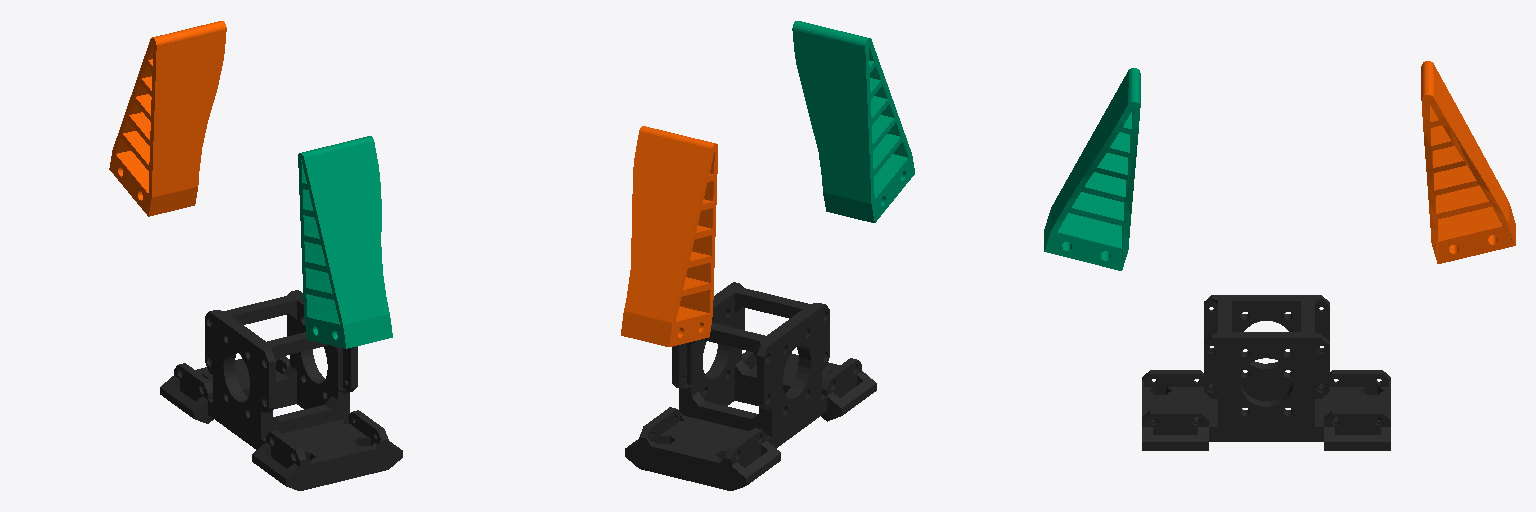
robot.urdf — lbr_iiwa:
<?xml version="1.0" ?>
<!-- ======================================================================= -->
<!-- | This document was autogenerated by xacro from lbr_iiwa.urdf.xacro   | -->
<!-- | Original xacro: https://github.com/rtkg/lbr_iiwa/archive/master.zip | -->
<!-- | EDITING THIS FILE BY HAND IS NOT RECOMMENDED                        | -->
<!-- | Changes ([author]):                                                 | -->
<!-- |   * Removed gazebo tags.                                            | -->
<!-- |   * Removed unused materials.                                       | -->
<!-- |   * Made mesh paths relative.                                       | -->
<!-- |   * Removed material fields from collision segments.                | -->
<!-- |   * Removed the self_collision_checking segment.                    | -->
<!-- |   * Removed transmission segments, since they didn't match the      | -->
<!-- |     convention, will have to added back later.                      | -->
<!-- ======================================================================= -->
<!--LICENSE:                                                                 -->
<!--Copyright (c) 2015, [author] & [author], AASS Research Center,  -->
<!--Orebro University, Sweden                                                -->
<!--All rights reserved.                                                     -->
<!--                                                                         -->
<!--Redistribution and use in source and binary forms, with or without       -->
<!--modification, are permitted provided that the following conditions are   -->
<!--met:                                                                     -->
<!--                                                                         -->
<!--1. Redistributions of source code must retain the above copyright notice,-->
<!--   this list of conditions and the following disclaimer.                 -->
<!--                                                                         -->
<!--2. Redistributions in binary form must reproduce the above copyright     -->
<!--   notice, this list of conditions and the following disclaimer in the   -->
<!--   documentation and/or other materials provided with the distribution.  -->
<!--                                                                         -->
<!--THIS SOFTWARE IS PROVIDED BY THE COPYRIGHT [author] "AS  -->
<!--IS" AND ANY EXPRESS OR IMPLIED WARRANTIES, INCLUDING, BUT NOT LIMITED TO,-->
<!--THE IMPLIED WARRANTIES OF MERCHANTABILITY AND FITNESS FOR A PARTICULAR   -->
<!--PURPOSE ARE DISCLAIMED. IN NO EVENT SHALL THE COPYRIGHT [author]        -->
<!--CONTRIBUTORS BE LIABLE FOR ANY DIRECT, INDIRECT, INCIDENTAL, SPECIAL,    -->
<!--EXEMPLARY, OR CONSEQUENTIAL DAMAGES (INCLUDING, BUT NOT LIMITED TO,      -->
<!--PROCUREMENT OF SUBSTITUTE GOODS OR SERVICES; LOSS OF USE, DATA, OR       -->
<!--PROFITS; OR BUSINESS INTERRUPTION) HOWEVER CAUSED AND ON ANY THEORY OF   -->
<!--LIABILITY, WHETHER IN CONTRACT, STRICT LIABILITY, OR TORT (INCLUDING     -->
<!--NEGLIGENCE OR OTHERWISE) ARISING IN ANY WAY OUT OF THE USE OF THIS       -->
<!--SOFTWARE, EVEN IF ADVISED OF THE POSSIBILITY OF SUCH DAMAGE.             -->
<robot name="lbr_iiwa" xmlns:xacro="http://www.ros.org/wiki/xacro">
  <!-- Import Rviz colors -->
  <mujoco>
    <compiler meshdir="iiwa_description/visual" balanceinertia="false" discardvisual="false"/>
  </mujoco>
  <material name="Grey">
    <color rgba="0.2 0.2 0.2 1.0"/>
  </material>
  <material name="Orange">
    <color rgba="1.0 0.423529411765 0.0392156862745 1.0"/>
  </material>
  <material name="Blue">
  <color rgba="0.5 0.7 1.0 1.0"/>      
</material>

  <!--Import the lbr iiwa macro -->
  <!--Import Transmissions -->
  <!--Include Utilities -->
  <!--The following macros are adapted from the LWR 4 definitions of the RCPRG - https://github.com/RCPRG-ros-pkg/lwr_robot -->
  <!--Little helper macros to define the inertia matrix needed for links.-->
  <!--Cuboid-->
  <!--Cylinder: length is along the y-axis! -->
  <!--lbr-->
  <link name="lbr_iiwa_link_0">
    <inertial>
      <origin rpy="0 0 0" xyz="-0.1 0 0.07"/>
      <!--Increase mass from 5 Kg original to provide a stable base to carry the
          arm.-->
      <mass value="1.0"/>
      <inertia ixx="0.05" ixy="0" ixz="0" iyy="0.06" iyz="0" izz="0.03"/>
    </inertial>
    <visual>
      <origin rpy="0 0 0" xyz="0 0 0"/>
      <geometry>
        <mesh filename="iiwa_description/visual/link_0.stl"/>
      </geometry>
      <material name="Grey"/>
    </visual>
    <collision>
      <origin rpy="0 0 0" xyz="0 0 0"/>
      <geometry>
        <mesh filename="iiwa_description/collision/link_0.obj"/>
      </geometry>
    </collision>
  </link>
  <!-- joint between link_0 and link_1 -->
  <joint name="lbr_iiwa_joint_1" type="revolute">
    <parent link="lbr_iiwa_link_0"/>
    <child link="lbr_iiwa_link_1"/>
    <origin rpy="0 0 0" xyz="0 0 0.1575"/>
    <axis xyz="0 0 1"/>
    <limit effort="300" lower="-2.96705972839" upper="2.96705972839" velocity="10"/>
    <dynamics damping="0.5"/>
  </joint>
  <link name="lbr_iiwa_link_1">
    <inertial>
      <origin rpy="0 0 0" xyz="0 -0.03 0.12"/>
      <mass value="4"/>
      <inertia ixx="0.1" ixy="0" ixz="0" iyy="0.09" iyz="0" izz="0.02"/>
    </inertial>
    <visual>
      <origin rpy="0 0 0" xyz="0 0 0"/>
      <geometry>
        <mesh filename="iiwa_description/visual/link_1.stl"/>
      </geometry>
      <material name="Blue"/>
    </visual>
    <collision>
      <origin rpy="0 0 0" xyz="0 0 0"/>
      <geometry>
        <mesh filename="iiwa_description/collision/link_1.stl"/>
      </geometry>
    </collision>
  </link>
  <!-- joint between link_1 and link_2 -->
  <joint name="lbr_iiwa_joint_2" type="revolute">
    <parent link="lbr_iiwa_link_1"/>
    <child link="lbr_iiwa_link_2"/>
    <origin rpy="1.57079632679   0 3.14159265359" xyz="0 0 0.2025"/>
    <axis xyz="0 0 1"/>
    <limit effort="300" lower="-2.09439510239" upper="2.09439510239" velocity="10"/>
    <dynamics damping="0.5"/>
  </joint>
  <link name="lbr_iiwa_link_2">
    <inertial>
      <origin rpy="0 0 0" xyz="0.0003 0.059 0.042"/>
      <mass value="4"/>
      <inertia ixx="0.05" ixy="0" ixz="0" iyy="0.018" iyz="0" izz="0.044"/>
    </inertial>
    <visual>
      <origin rpy="0 0 0" xyz="0 0 0"/>
      <geometry>
        <mesh filename="iiwa_description/visual/link_2.stl"/>
      </geometry>
      <material name="Blue"/>
    </visual>
    <collision>
      <origin rpy="0 0 0" xyz="0 0 0"/>
      <geometry>
        <mesh filename="iiwa_description/collision/link_2.stl"/>
      </geometry>
    </collision>
  </link>
  <!-- joint between link_2 and link_3 -->
  <joint name="lbr_iiwa_joint_3" type="revolute">
    <parent link="lbr_iiwa_link_2"/>
    <child link="lbr_iiwa_link_3"/>
    <origin rpy="1.57079632679 0 3.14159265359" xyz="0 0.2045 0"/>
    <axis xyz="0 0 1"/>
    <limit effort="300" lower="-2.96705972839" upper="2.96705972839" velocity="10"/>
    <dynamics damping="0.5"/>
  </joint>
  <link name="lbr_iiwa_link_3">
    <inertial>
      <origin rpy="0 0 0" xyz="0 0.03 0.13"/>
      <mass value="3"/>
      <inertia ixx="0.08" ixy="0" ixz="0" iyy="0.075" iyz="0" izz="0.01"/>
    </inertial>
    <visual>
      <origin rpy="0 0 0" xyz="0 0 0"/>
      <geometry>
        <mesh filename="iiwa_description/visual/link_3.stl"/>
      </geometry>
      <material name="Orange"/>
    </visual>
    <collision>
      <origin rpy="0 0 0" xyz="0 0 0"/>
      <geometry>
        <mesh filename="iiwa_description/collision/link_3.stl"/>
      </geometry>
    </collision>
  </link>
  <!-- joint between link_3 and link_4 -->
  <joint name="lbr_iiwa_joint_4" type="revolute">
    <parent link="lbr_iiwa_link_3"/>
    <child link="lbr_iiwa_link_4"/>
    <origin rpy="1.57079632679 0 0" xyz="0 0 0.2155"/>
    <axis xyz="0 0 1"/>
    <limit effort="300" lower="-2.09439510239" upper="2.09439510239" velocity="10"/>
    <dynamics damping="0.5"/>
  </joint>
  <link name="lbr_iiwa_link_4">
    <inertial>
      <origin rpy="0 0 0" xyz="0 0.067 0.034"/>
      <mass value="2.7"/>
      <inertia ixx="0.03" ixy="0" ixz="0" iyy="0.01" iyz="0" izz="0.029"/>
    </inertial>
    <visual>
      <origin rpy="0 0 0" xyz="0 0 0"/>
      <geometry>
        <mesh filename="iiwa_description/visual/link_4.stl"/>
      </geometry>
      <material name="Blue"/>
    </visual>
    <collision>
      <origin rpy="0 0 0" xyz="0 0 0"/>
      <geometry>
        <mesh filename="iiwa_description/collision/link_4.stl"/>
      </geometry>
    </collision>
  </link>
  <!-- joint between link_4 and link_5 -->S
  <joint name="lbr_iiwa_joint_5" type="revolute">
    <parent link="lbr_iiwa_link_4"/>
    <child link="lbr_iiwa_link_5"/>
    <origin rpy="-1.57079632679 3.14159265359 0" xyz="0 0.1845 0"/>
    <axis xyz="0 0 1"/>
    <limit effort="300" lower="-2.96705972839" upper="2.96705972839" velocity="10"/>
    <dynamics damping="0.5"/>
  </joint>
  <link name="lbr_iiwa_link_5">
    <inertial>
      <origin rpy="0 0 0" xyz="0.0001 0.021 0.076"/>
      <mass value="1.7"/>
      <inertia ixx="0.02" ixy="0" ixz="0" iyy="0.018" iyz="0" izz="0.005"/>
    </inertial>
    <visual>
      <origin rpy="0 0 0" xyz="0 0 0"/>
      <geometry>
        <mesh filename="iiwa_description/visual/link_5.stl"/>
      </geometry>
      <material name="Blue"/>
    </visual>
    <collision>
      <origin rpy="0 0 0" xyz="0 0 0"/>
      <geometry>
        <mesh filename="iiwa_description/collision/link_5.stl"/>
      </geometry>
    </collision>
  </link>
  <!-- joint between link_5 and link_6 -->
  <joint name="lbr_iiwa_joint_6" type="revolute">
    <parent link="lbr_iiwa_link_5"/>
    <child link="lbr_iiwa_link_6"/>
    <origin rpy="1.57079632679 0 0" xyz="0 0 0.2155"/>
    <axis xyz="0 0 1"/>
    <limit effort="300" lower="-2.09439510239" upper="2.09439510239" velocity="10"/>
    <dynamics damping="0.5"/>
  </joint>
  <link name="lbr_iiwa_link_6">
    <inertial>
      <origin rpy="0 0 0" xyz="0 0.0006 0.0004"/>
      <mass value="1.8"/>
      <inertia ixx="0.005" ixy="0" ixz="0" iyy="0.0036" iyz="0" izz="0.0047"/>
    </inertial>
    <visual>
      <origin rpy="0 0 0" xyz="0 0 0"/>
      <geometry>
        <mesh filename="iiwa_description/visual/link_6.stl"/>
      </geometry>
      <material name="Orange"/>
    </visual>
    <collision>
      <origin rpy="0 0 0" xyz="0 0 0"/>
      <geometry>
        <mesh filename="iiwa_description/collision/link_6.stl"/>
      </geometry>
    </collision>
  </link>
  <!-- joint between link_6 and link_7 -->
  <joint name="lbr_iiwa_joint_7" type="revolute">
    <parent link="lbr_iiwa_link_6"/>
    <child link="lbr_iiwa_link_7"/>
    <origin rpy="-1.57079632679 3.14159265359 0" xyz="0 0.081 0"/>
    <axis xyz="0 0 1"/>
    <limit effort="300" lower="-3.05432619099" upper="3.05432619099" velocity="10"/>
    <dynamics damping="0.5"/>
  </joint>
  <link name="lbr_iiwa_link_7">
    <inertial>
      <origin rpy="0 0 0" xyz="0 0 0.02"/>
      <mass value="0.3"/>
      <inertia ixx="0.001" ixy="0" ixz="0" iyy="0.001" iyz="0" izz="0.001"/>
    </inertial>
    <visual>
      <origin rpy="0 0 0" xyz="0 0 0"/>
      <geometry>
        <mesh filename="iiwa_description/visual/link_7.stl"/>
      </geometry>
      <material name="Grey"/>
    </visual>
    <collision>
      <origin rpy="0 0 0" xyz="0 0 0"/>
      <geometry>
        <mesh filename="iiwa_description/collision/link_7.stl"/>
      </geometry>
    </collision>
  </link>
  <joint name="iiwa_joint_ee" type="fixed">
    <parent link="lbr_iiwa_link_7"/>
    <child link="iiwa_link_ee_kuka"/>
    <origin rpy="3.141592653589793 3.141592653589793 3.141592653589793" xyz="0 0 0.045"/>
    <axis xyz="0 0 1"/>
  </joint>
  <link name="iiwa_link_ee_kuka">
    </link>
  <joint name="tool0_joint" type="fixed">
    <parent link="lbr_iiwa_link_7"/>
    <child link="uhvat_link_0"/>
    <origin rpy="0 1.570796326794897 0" xyz="0 0 0.045"/>
  </joint>
  <link name="uhvat_link_0">
    <inertial>
      <origin rpy="0 0 0" xyz="-1.40846398e-02  9.04628229e-07 -4.91359742e-06"/>
      <mass value="0.05020125376157147"/>
      <inertia ixx="4.61685605e-05" ixy="-7.88272268e-10" ixz="6.84094585e-10" iyy="1.88534477e-05" iyz="2.28758424e-09" izz="4.54452943e-05"/>
    </inertial>
    <visual>
      <origin rpy="0 0 0" xyz="0 0 0"/>
      <geometry>
        <mesh filename="uhvat_description/motor_mount_tiny.stl" scale="1 1 1"/>
      </geometry>
      <material name="Grey"/>
    </visual>
    <collision>
      <origin rpy="0 0 0" xyz="0 0 0"/>
      <geometry>
        <mesh filename="uhvat_description/motor_mount_tiny.stl" scale="1 1 1"/>
      </geometry>
    </collision>
  </link>
  <!-- left finger -->
  <joint name="uhvat_joint_1" type="prismatic">
    <origin rpy="0 0 1.3" xyz="-0.045 -0.075 0"/>
    <parent link="uhvat_link_0"/>
    <child link="uhvat_link_1"/>
    <axis xyz="1 0 0"/>
    <limit effort="2" lower="0.0" upper="0.06" velocity="0.5"/>
    <dynamics damping="0.4" friction="0.4"/>
  </joint>
  <link name="uhvat_link_1">
    <inertial>
      <origin rpy="0 0 0" xyz="-0.01501654  0.02981859  0.01176479"/>
      <mass value="0.020558017345724853"/>
      <inertia ixx="1.10355285e-05" ixy="-3.96153698e-08" ixz="-3.83755623e-09" iyy="2.18604555e-06" iyz="-7.76381797e-07" izz="1.11699254e-05"/>
    </inertial>
    <visual>
      <origin rpy="0 0 0" xyz="0.015 0.025 -0.02"/>
      <geometry>
        <mesh filename="uhvat_description/festolike_finger_tiny.stl" scale="1 1 1"/>
      </geometry>
      <material name="Green"/>
    </visual>
    <collision>
      <origin rpy="0 0 0" xyz="0.015 0.025 -0.02"/>
      <geometry>
        <mesh filename="uhvat_description/festolike_finger_tiny.stl" scale="1 1 1"/>
      </geometry>
    </collision>
  </link>
  <joint name="uhvat_joint_1_tip" type="fixed">
    <origin rpy="0 0 0" xyz="0.0 0.1 -0.01"/>
    <parent link="uhvat_link_1"/>
    <child link="uhvat_link_1_tip"/>
  </joint>
  <link name="uhvat_link_1_tip">
  </link>
  
  <!-- right finger -->
  <joint name="uhvat_joint_2" type="prismatic">
    <origin rpy="0 0 1.83" xyz="-0.045 0.075 0"/>
    <parent link="uhvat_link_0"/>
    <child link="uhvat_link_2"/>
    <axis xyz="1 0 0"/>
    <limit effort="2" lower="-0.06" upper="0.0" velocity="0.5"/>
    <dynamics damping="0.4" friction="0.4"/>
  </joint>
  <link name="uhvat_link_2">
    <inertial>
      <origin rpy="0 0 0" xyz="-0.01501654  0.02981859  0.01176479"/>
      <mass value="0.020558017345724853"/>
      <inertia ixx="1.10355285e-05" ixy="-3.96153698e-08" ixz="-3.83755623e-09" iyy="2.18604555e-06" iyz="-7.76381797e-07" izz="1.11699254e-05"/>
    </inertial>
    <visual>
      <origin rpy="0 0 0" xyz="0.025 0.025 -0.02"/>
      <geometry>
        <mesh filename="uhvat_description/festolike_finger_tiny.stl" scale="1 1 1"/>
      </geometry>
      <material name="Orange"/>
    </visual>
    <collision>
      <origin rpy="0 0 0" xyz="0.025 0.025 -0.02"/>
      <geometry>
        <mesh filename="uhvat_description/festolike_finger_tiny.stl" scale="1 1 1"/>
      </geometry>
    </collision>
  </link>
  <joint name="uhvat_joint_2_tip" type="fixed">
    <origin rpy="0 0 0" xyz="0.01 0.1 -0.01"/>
    <parent link="uhvat_link_2"/>
    <child link="uhvat_link_2_tip"/>
  </joint>
  <link name="uhvat_link_2_tip">
  </link>
  <link name="palm_center">
  </link>
  <joint name="palm_center_joint" type="fixed">
    <parent link="lbr_iiwa_link_7"/>
    <child link="palm_center"/>
    <origin rpy="3.141592653589793 3.141592653589793 3.141592653589793" xyz="0 0 0.1"/>
  </joint>
</robot>

--- Render facts (derived) ---
Views: 3 orthographic renders of the robot side by side, from view 1: azimuth 30°, elevation 25°; view 2: azimuth 150°, elevation 25°; view 3: azimuth 270°, elevation 25°.
Robot: lbr_iiwa — 15 links, 14 joints (7 revolute, 2 prismatic, 5 fixed); root link lbr_iiwa_link_0; default pose: every joint at zero.
Links seen in each view (by area): view 1: uhvat_link_0, uhvat_link_1, uhvat_link_2; view 2: uhvat_link_0, uhvat_link_2, uhvat_link_1; view 3: uhvat_link_0, uhvat_link_1, uhvat_link_2.
Boxes of the visible links, x1=… form: uhvat_link_0: x1=160, y1=290, x2=402, y2=490; uhvat_link_1: x1=298, y1=136, x2=392, y2=348; uhvat_link_2: x1=109, y1=21, x2=226, y2=216; uhvat_link_0: x1=625, y1=282, x2=876, y2=490; uhvat_link_2: x1=621, y1=126, x2=717, y2=346; uhvat_link_1: x1=792, y1=21, x2=914, y2=222; uhvat_link_0: x1=1142, y1=295, x2=1390, y2=450; uhvat_link_1: x1=1044, y1=68, x2=1140, y2=270; uhvat_link_2: x1=1421, y1=61, x2=1515, y2=263.
Size in the robot's own frame: 0.05 by 0.1755 by 0.1424 metres.
Meshes: 10 distinct files referenced, 3 mesh visuals loaded (2 binary STL); not drawn: 8 (reference not matched to a file when rendering).